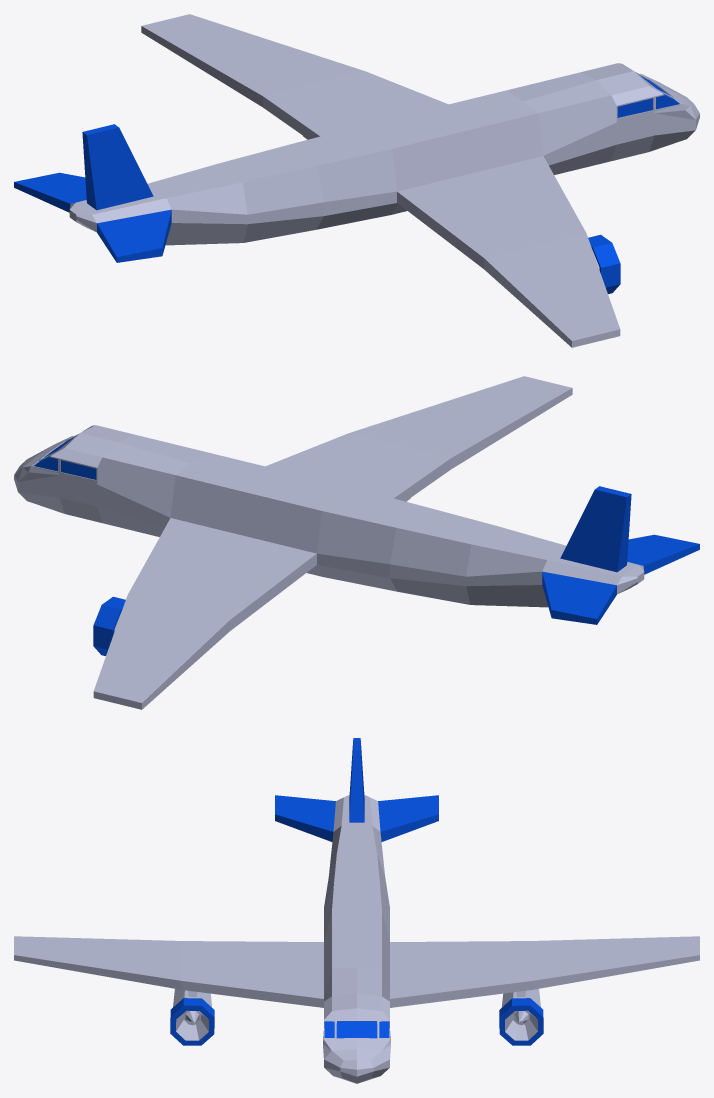
The model's file is AirPlaneBoarding.glb.
The picture shows the model from 3 angles, top to bottom: view 1: azimuth 30°, elevation 25°; view 2: azimuth 150°, elevation 25°; view 3: azimuth 270°, elevation 25°; orthographic projection. The views are drawn at different scales.
Visible parts, largest first — view 1: airplane; view 2: airplane; view 3: airplane.
Part boxes in pixels (<box>): airplane: <box>14,14,699,347</box>; airplane: <box>14,376,699,709</box>; airplane: <box>14,738,699,1083</box>.
Size of the model in its own units: 3.95 by 1.09 by 4.67.
